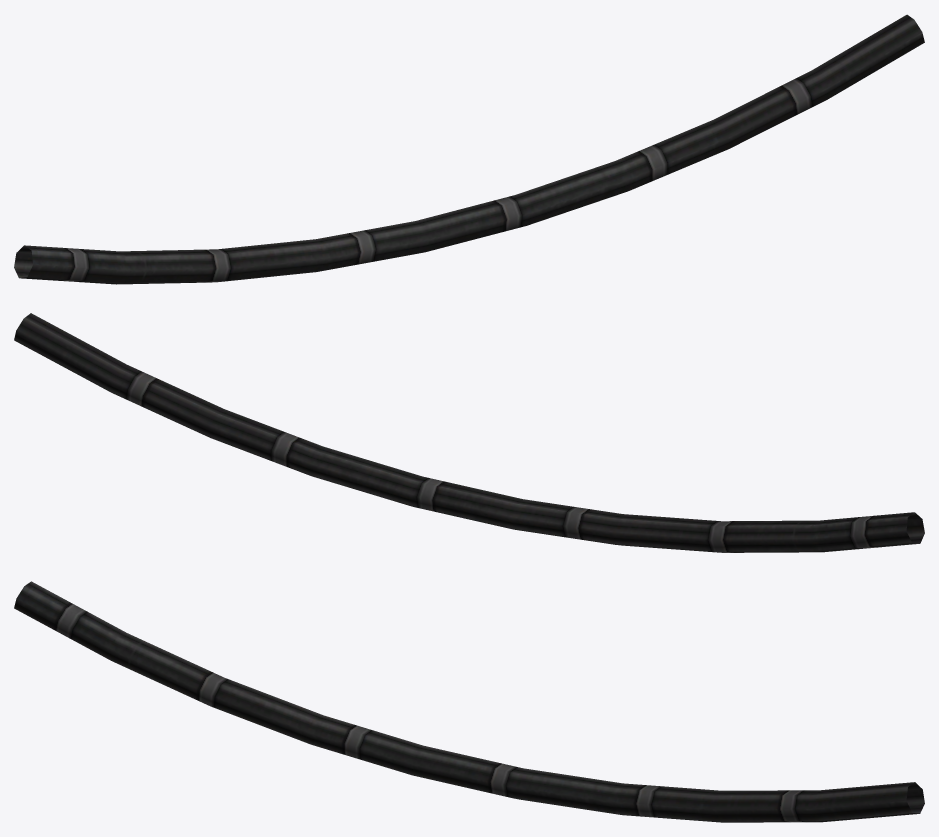
Rendered from lab_thick_hanging_long_shallow.dae.
3 views of the same model, one above another, from view 1: azimuth 30°, elevation 25°; view 2: azimuth 150°, elevation 25°; view 3: azimuth 330°, elevation 25° (orthographic). The views are drawn at different scales.
Parts seen in each view (by area): view 1: hanging_long_shallow; view 2: hanging_long_shallow; view 3: hanging_long_shallow.
Boxes of the visible parts, x1,y1,x2,y2 form: hanging_long_shallow: (14,14,924,284); hanging_long_shallow: (14,313,924,552); hanging_long_shallow: (14,581,924,822).
Size of the model in its own units: 3.98 by 0.4475 by 0.2505.
